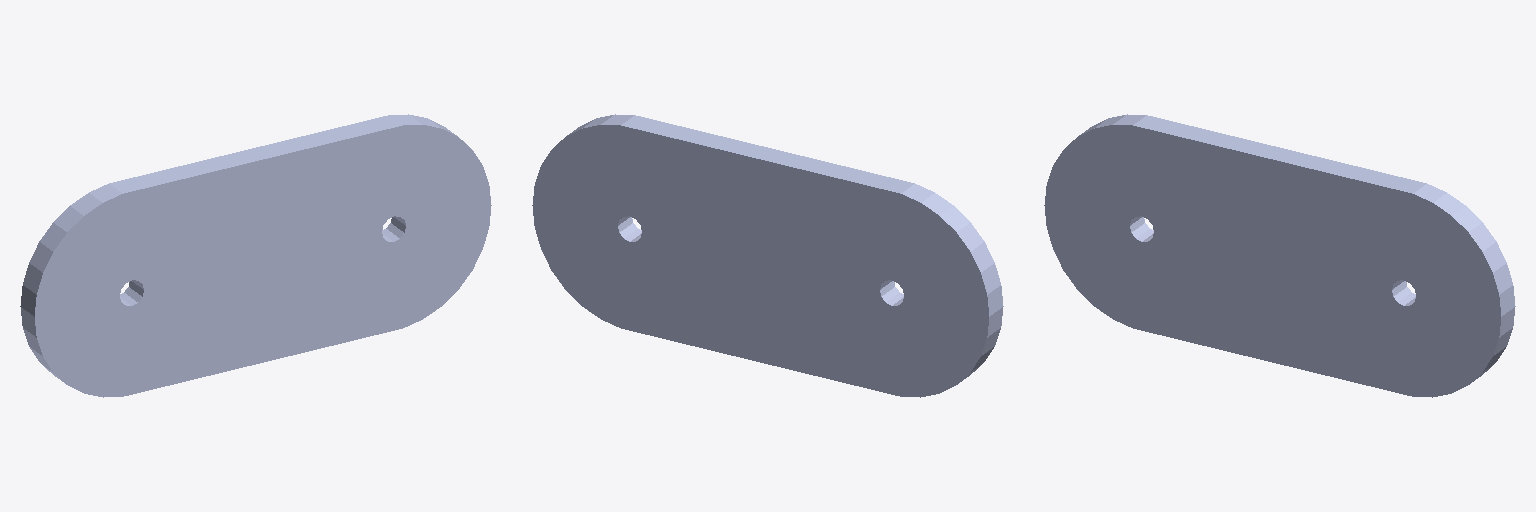
The robot description file, URDF, robot "Hand":
<robot
  name="Hand">
  <link
    name="HandURDF">
    <inertial>
      <origin
        xyz="-0.015369 -0.003175 0.01206"
        rpy="0 0 0" />
      <mass
        value="0.034401" />
      <inertia
        ixx="6.86458956714384E-06"
        ixy="4.39439700418796E-23"
        ixz="-4.73196289719905E-22"
        iyy="4.1365230106014E-05"
        iyz="-3.6869256590143E-22"
        izz="3.47318317535175E-05" />
    </inertial>
    <visual>
      <origin
        xyz="0 0 0"
        rpy="1.5707963267949 0 0" />
      <geometry>
        <mesh
          filename="package://HandURDF/meshes/HandURDF.STL" />
      </geometry>
      <material
        name="">
        <color
          rgba="0.79216 0.81961 0.93333 1" />
      </material>
    </visual>
    <collision>
      <origin
        xyz="0 0 0"
        rpy="1.5707963267949 0 0" />
      <geometry>
        <mesh
          filename="package://HandURDF/meshes/HandURDF.STL" />
      </geometry>
    </collision>
  </link>
</robot>

--- What the picture shows (computed from the rendered views, not written in the file) ---
The picture shows the robot from 3 angles, left to right: view 1: azimuth 30°, elevation 25°; view 2: azimuth 150°, elevation 25°; view 3: azimuth 330°, elevation 25°; orthographic projection.
Robot: Hand — 1 links, 0 joints (none); root link HandURDF; default pose: all joints at 0.
Visible links, largest first — view 1: HandURDF; view 2: HandURDF; view 3: HandURDF.
Link boxes in pixels (x1,y1,x2,y2): HandURDF: [20, 114, 491, 397]; HandURDF: [532, 114, 1003, 397]; HandURDF: [1044, 114, 1515, 397].
Bounding box of the posed robot: 0.1191 × 0.0063 × 0.0506 m (x, y, z).
Meshes: 1 distinct files referenced, 1 mesh visuals loaded (1 binary STL).
